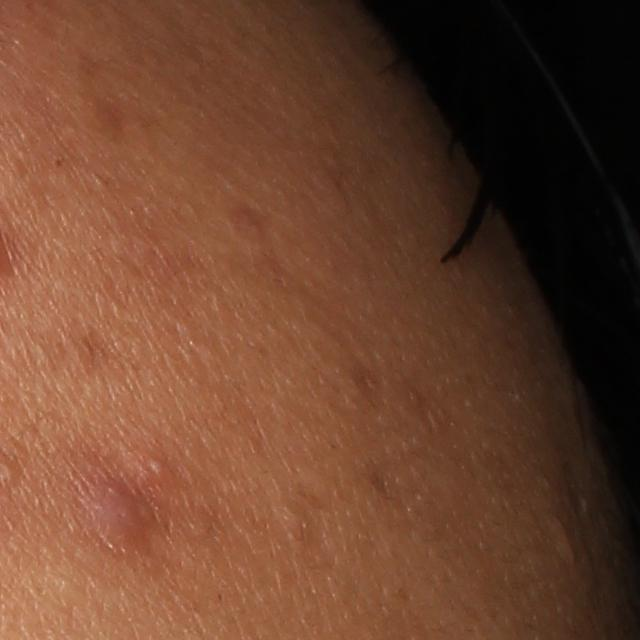comedo: (144, 448, 171, 480)
papule: (83, 476, 145, 559)
